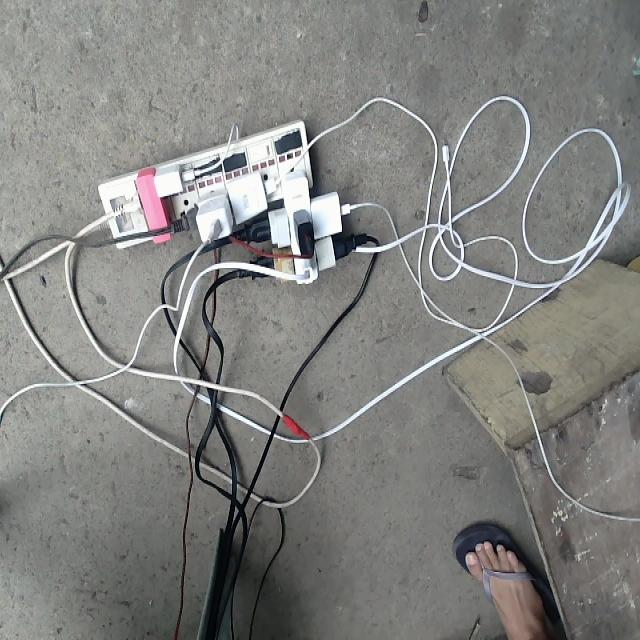-: (96, 117, 353, 284)
